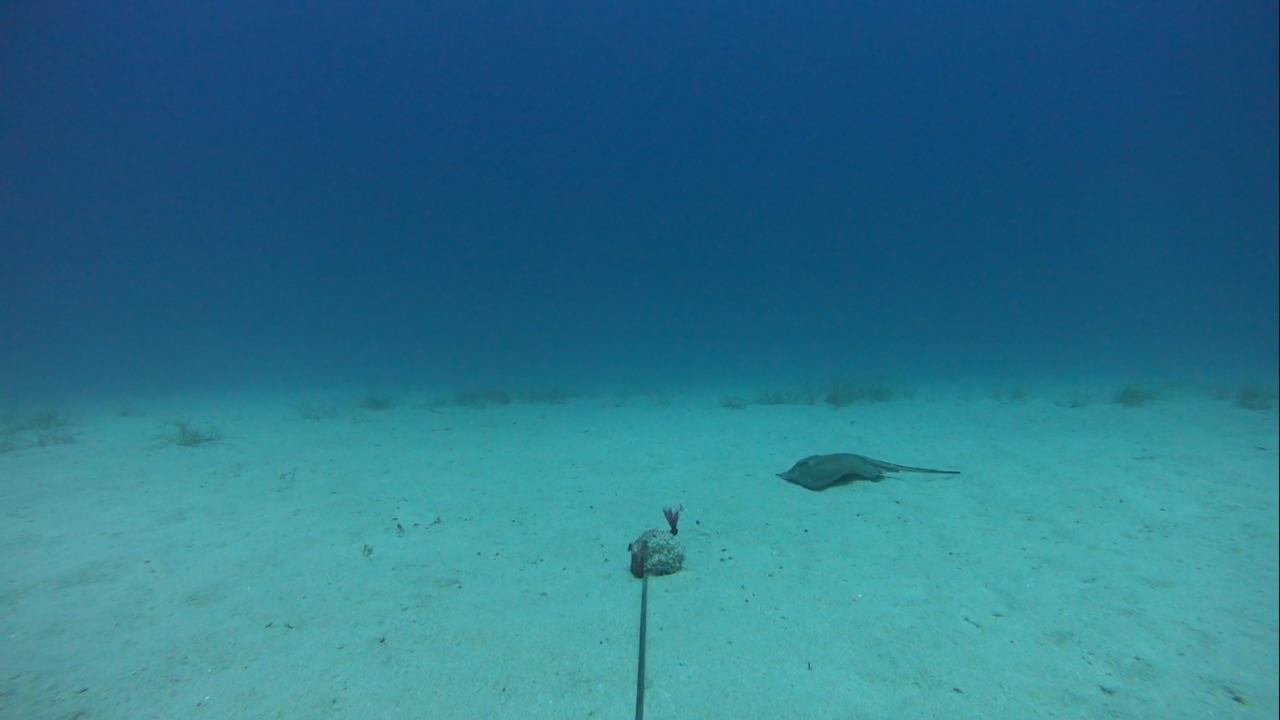myliobatis: (769, 448, 967, 490)
